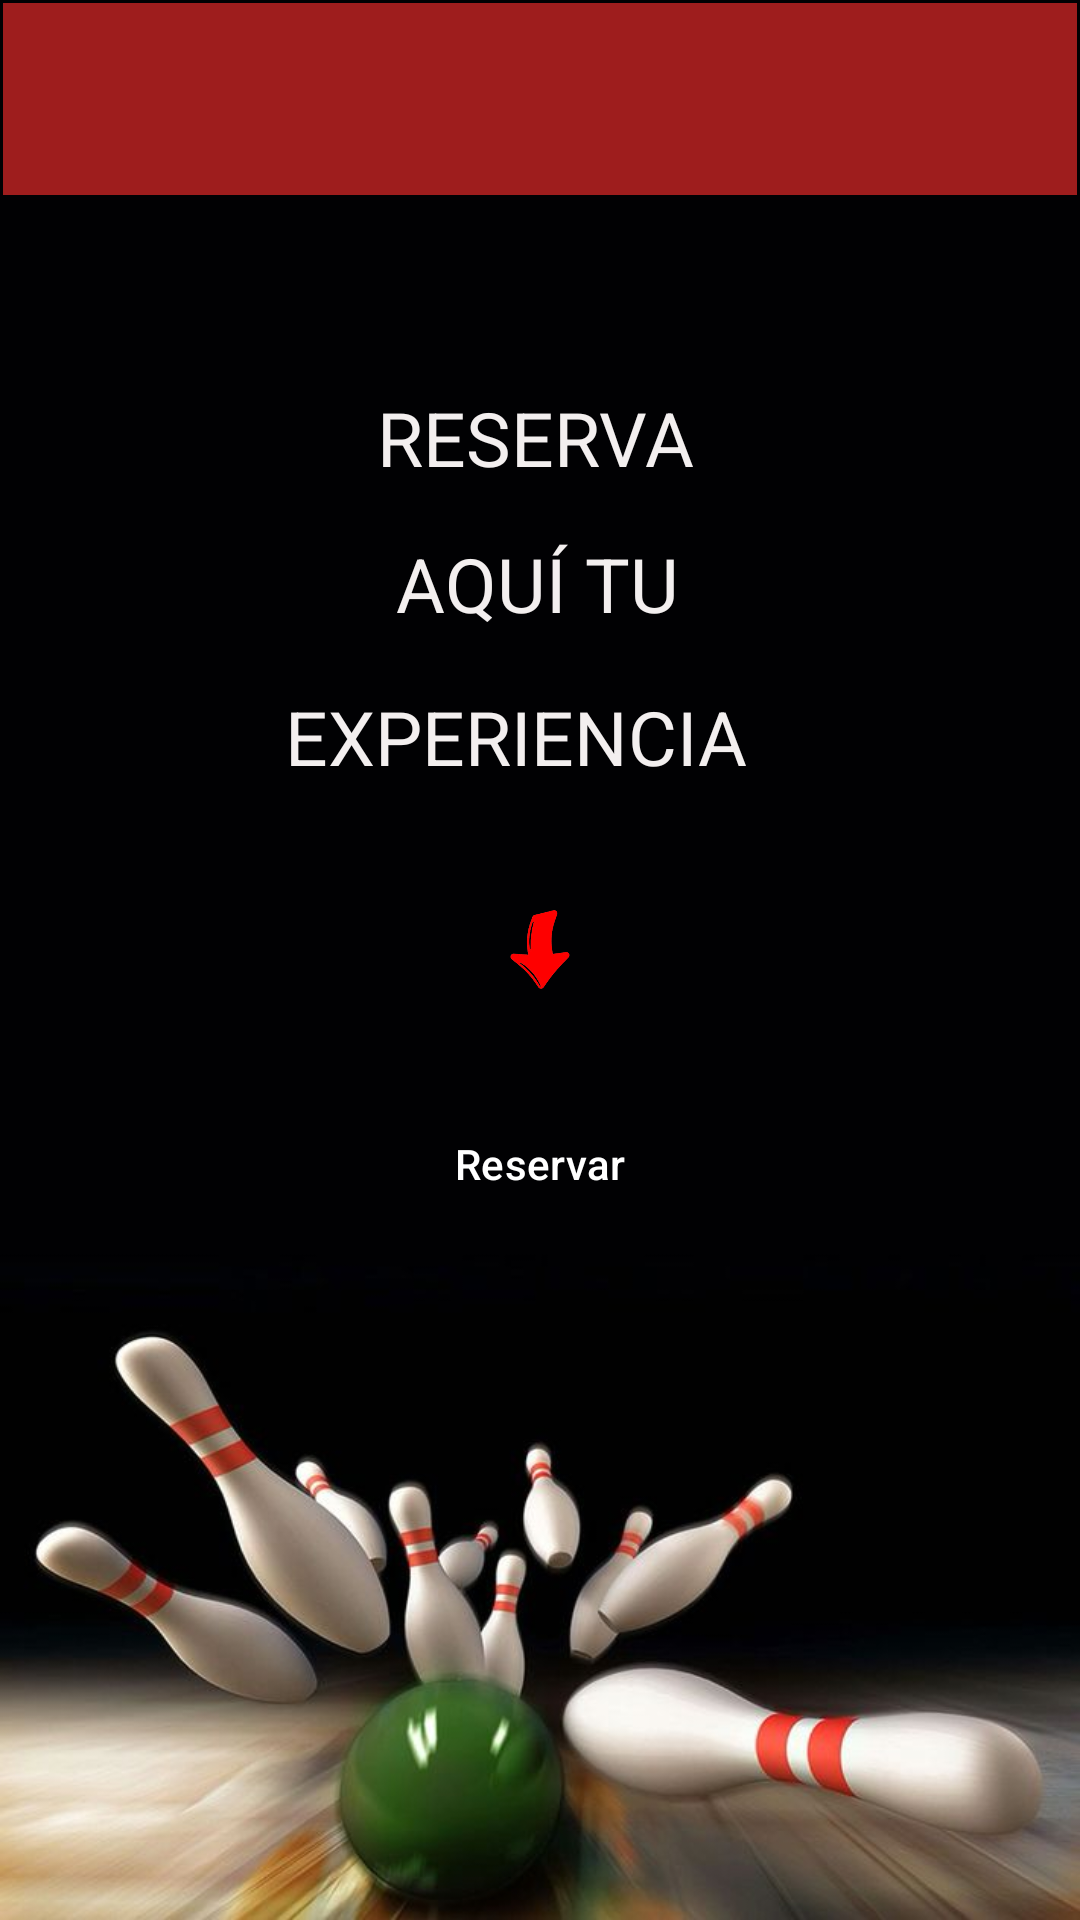

Icon bounding boxes for this 1080 x 1920 phone screenshot, format (x1, y1, x2, y2):
flechadesenfada: (510, 910, 570, 989)
